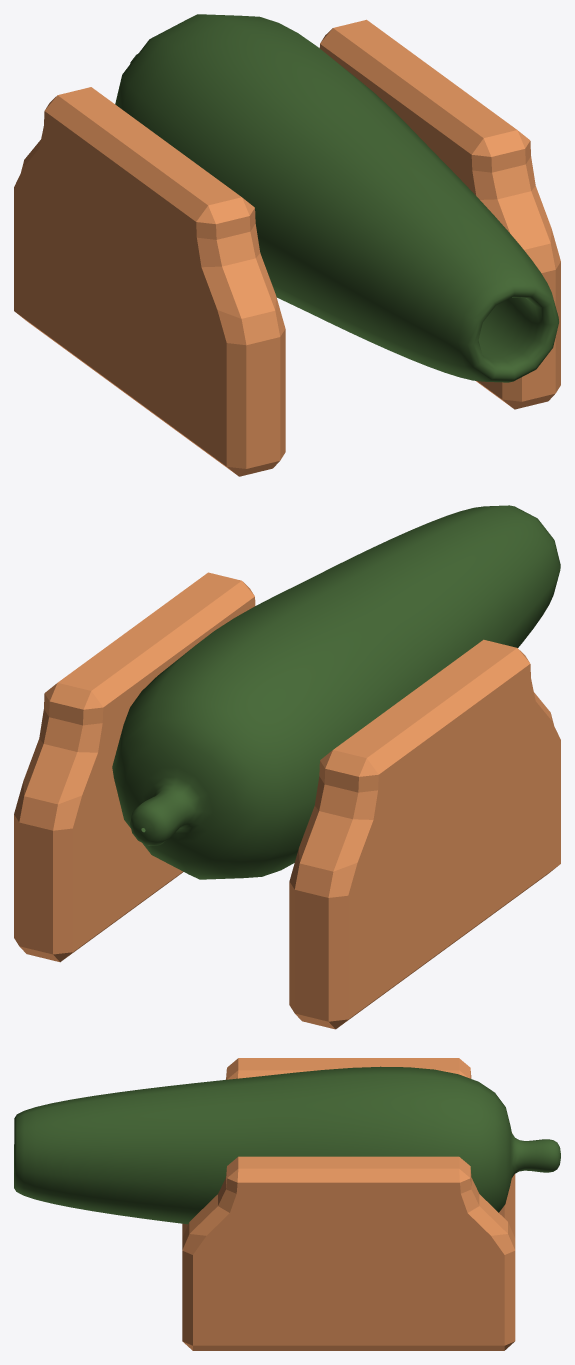
Rendered from cannon.gltf.
3 views of the same model, one above another, from view 1: azimuth 30°, elevation 25°; view 2: azimuth 150°, elevation 25°; view 3: azimuth 270°, elevation 25° (orthographic). The views are drawn at different scales.
Visible parts, largest first — view 1: cannon, board0, board1; view 2: cannon, board0, board1; view 3: board1, cannon, board0.
Boxes of the visible parts, x1,y1,x2,y2 form: cannon: [115, 14, 558, 382]; board0: [14, 87, 285, 476]; board1: [319, 19, 560, 409]; cannon: [112, 505, 560, 879]; board0: [289, 639, 560, 1029]; board1: [14, 572, 255, 962]; board1: [182, 1156, 515, 1350]; cannon: [14, 1066, 560, 1224]; board0: [182, 1058, 515, 1237].
Bounding box in the file's own units: 1.7 × 1.46 × 3.29.
